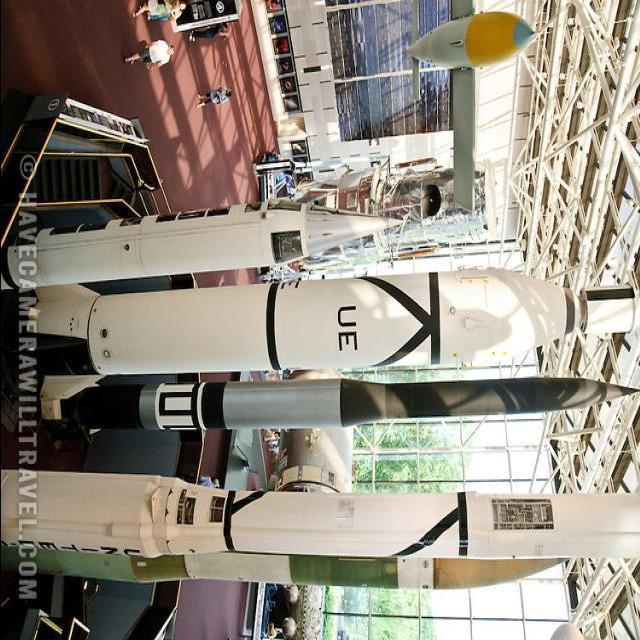missile: (15, 459, 627, 569), (30, 274, 572, 372), (9, 206, 402, 290), (88, 374, 636, 433)
